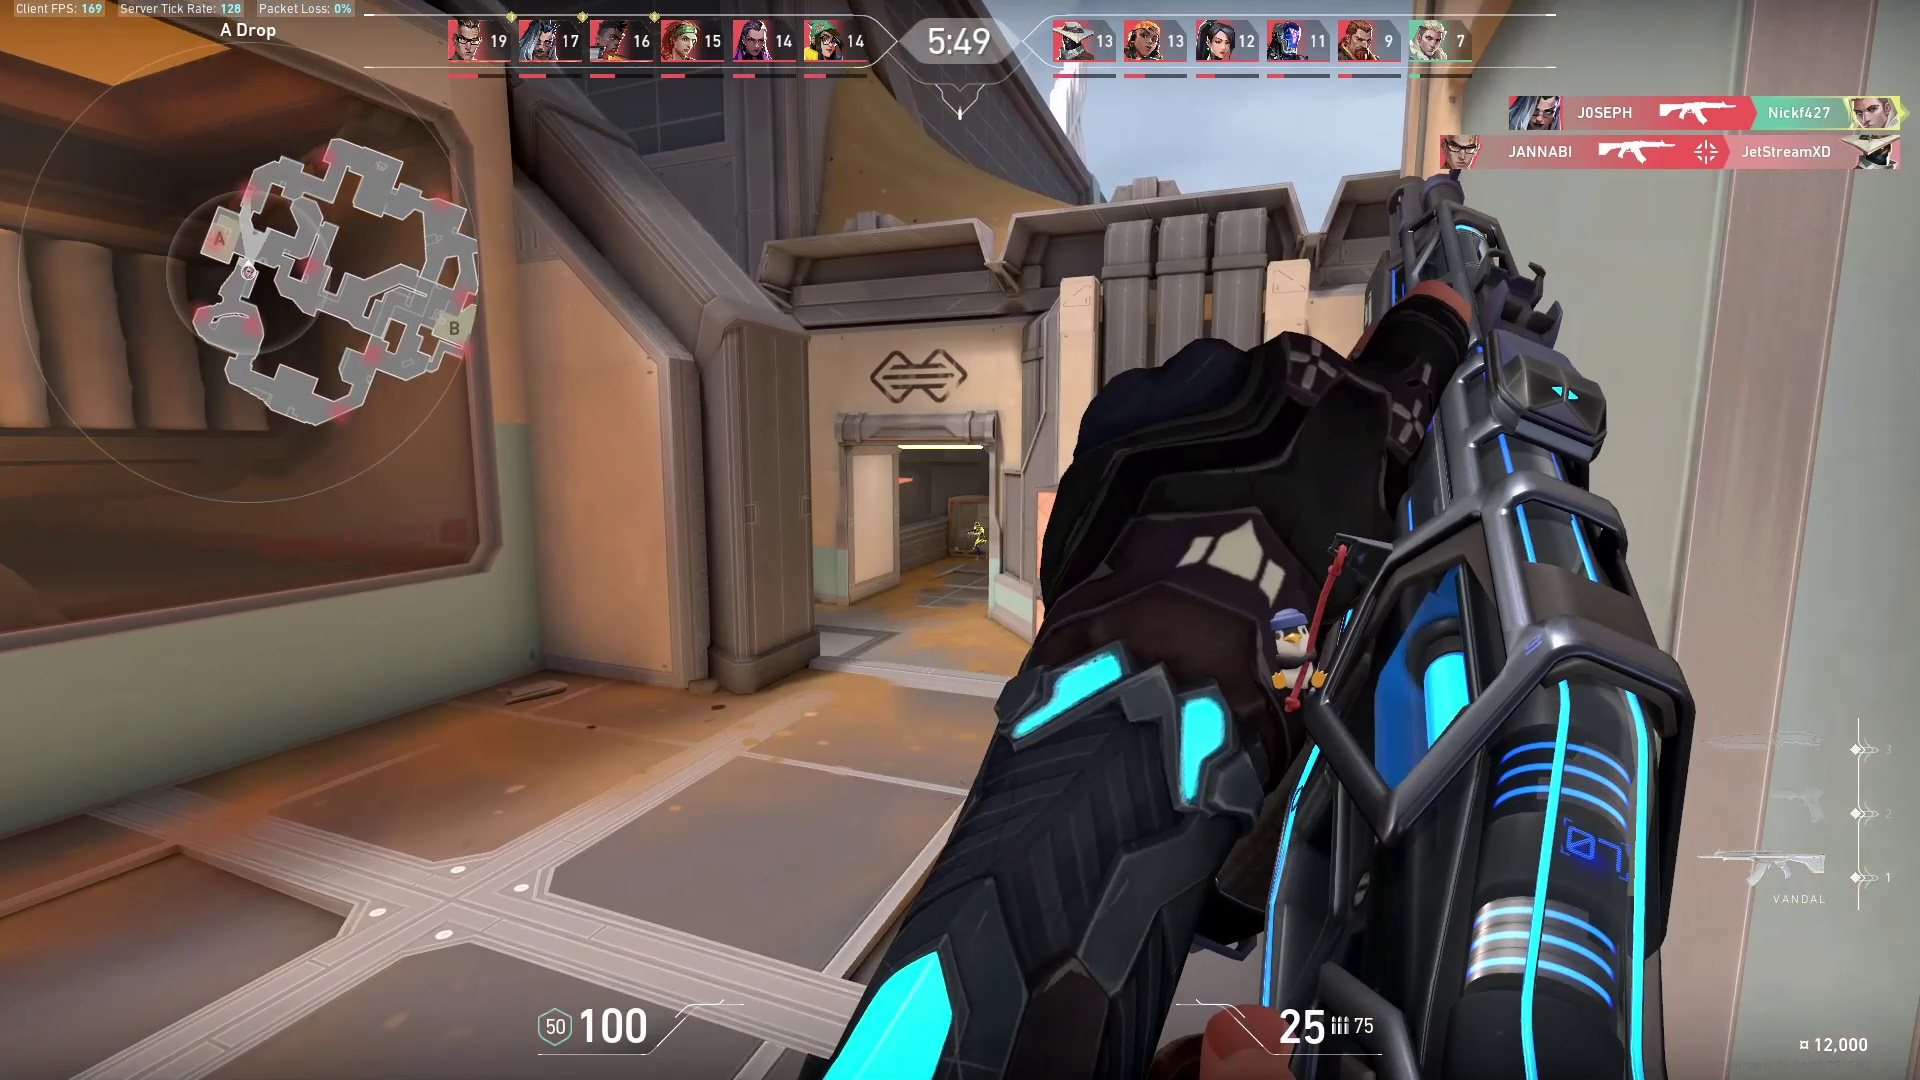enemy_body: (967, 529, 990, 560)
enemy_head: (973, 520, 982, 530)
